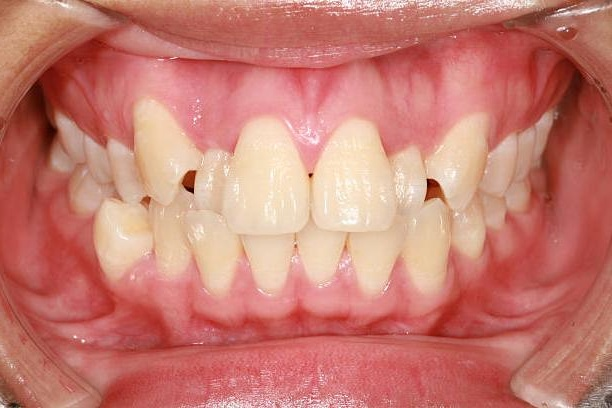Gingivitis: (159, 305, 407, 340)
